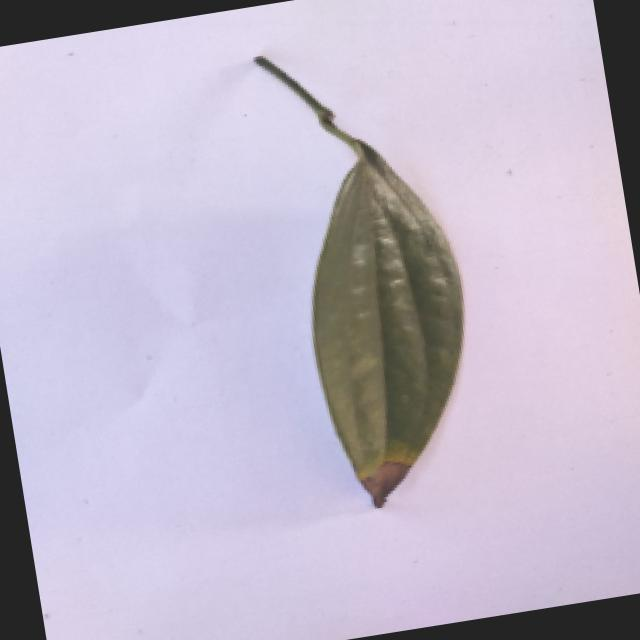footrot: (252, 34, 502, 516)
